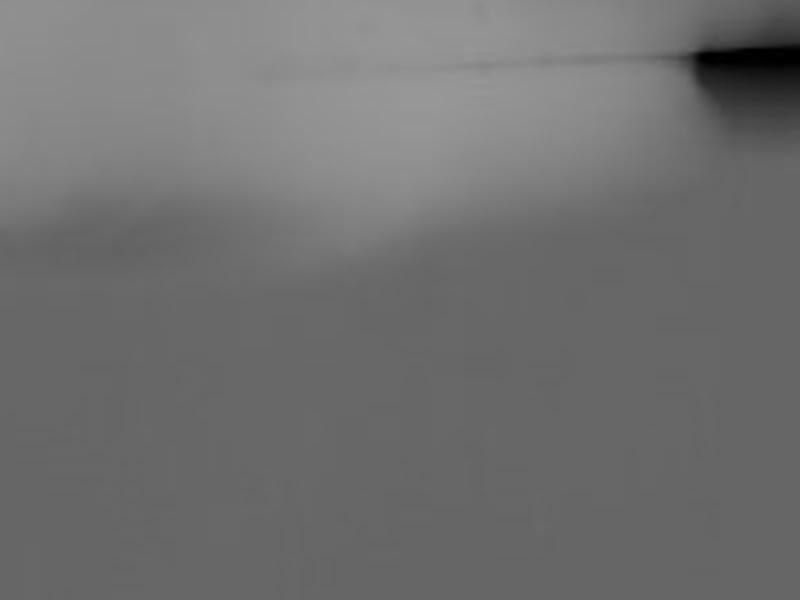defect: (696, 44, 796, 103)
